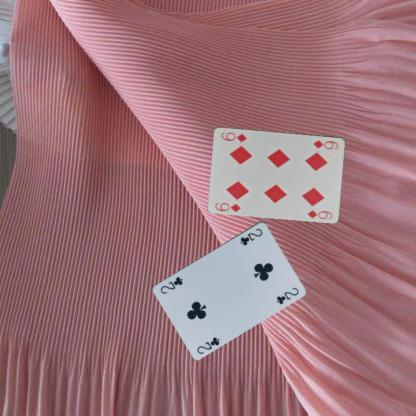2c: (238, 225, 264, 247), (194, 334, 221, 355)
6d: (311, 137, 340, 151), (213, 200, 242, 213)
